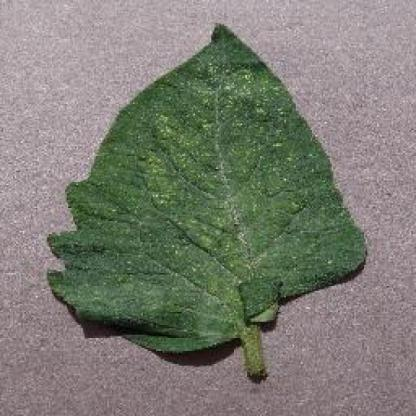Tomato_Spider_Mites: (48, 25, 366, 354)
